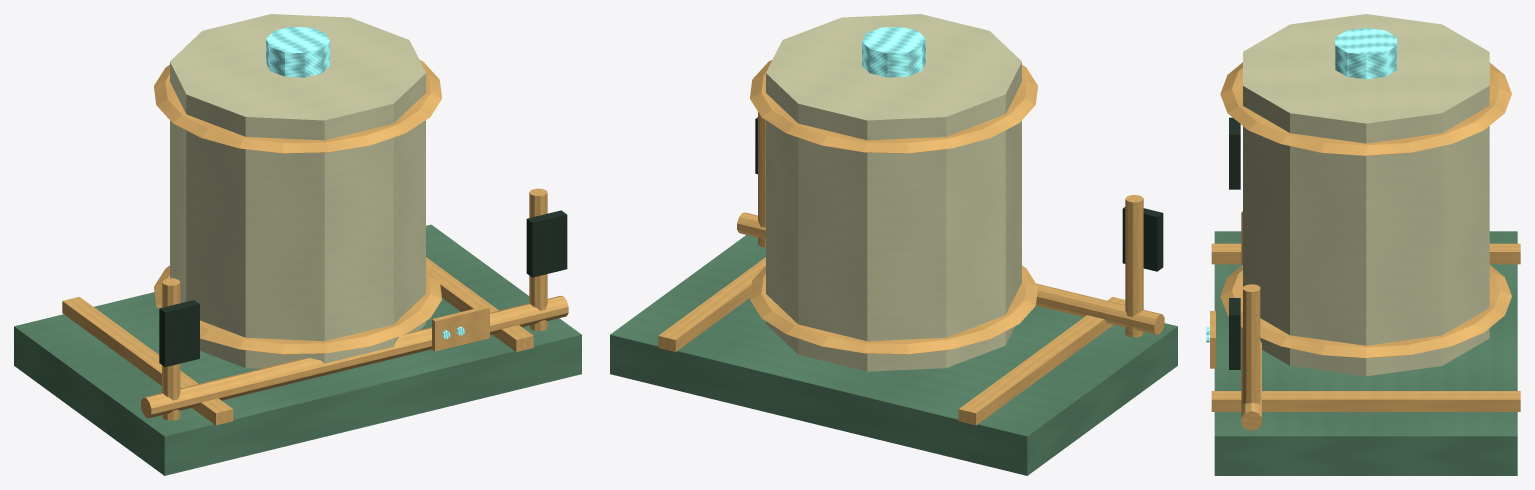
The model's file is atlas100-s009-a06.glb.
3 views of the same model, side by side, from view 1: azimuth 30°, elevation 25°; view 2: azimuth 150°, elevation 25°; view 3: azimuth 270°, elevation 25° (orthographic).
Parts seen in each view (by area): view 1: atlas100-s009-a06:part-003, atlas100-s009-a06:part-000, atlas100-s009-a06:part-012, atlas100-s009-a06:part-005, atlas100-s009-a06:part-004, atlas100-s009-a06:part-001, atlas100-s009-a06:part-006, atlas100-s009-a06:part-011, atlas100-s009-a06:part-009, atlas100-s009-a06:part-002, atlas100-s009-a06:part-013, atlas100-s009-a06:part-008 (+1 smaller); view 2: atlas100-s009-a06:part-003, atlas100-s009-a06:part-000, atlas100-s009-a06:part-005, atlas100-s009-a06:part-004, atlas100-s009-a06:part-001, atlas100-s009-a06:part-012, atlas100-s009-a06:part-006, atlas100-s009-a06:part-002, atlas100-s009-a06:part-008, atlas100-s009-a06:part-009, atlas100-s009-a06:part-010; view 3: atlas100-s009-a06:part-003, atlas100-s009-a06:part-000, atlas100-s009-a06:part-002, atlas100-s009-a06:part-005, atlas100-s009-a06:part-004, atlas100-s009-a06:part-006, atlas100-s009-a06:part-010, atlas100-s009-a06:part-001, atlas100-s009-a06:part-012, atlas100-s009-a06:part-011, atlas100-s009-a06:part-009, atlas100-s009-a06:part-013.
Boxes of the visible parts, x1,y1,x2,y2 form: atlas100-s009-a06:part-003: (170, 14, 425, 368); atlas100-s009-a06:part-000: (14, 224, 581, 475); atlas100-s009-a06:part-012: (141, 295, 568, 418); atlas100-s009-a06:part-005: (154, 60, 441, 153); atlas100-s009-a06:part-004: (154, 265, 441, 354); atlas100-s009-a06:part-001: (62, 297, 233, 425); atlas100-s009-a06:part-006: (266, 26, 329, 77); atlas100-s009-a06:part-011: (526, 210, 567, 277); atlas100-s009-a06:part-009: (159, 300, 199, 367); atlas100-s009-a06:part-002: (426, 257, 533, 351); atlas100-s009-a06:part-013: (432, 306, 489, 351); atlas100-s009-a06:part-008: (162, 278, 180, 420); atlas100-s009-a06:part-003: (766, 14, 1021, 371); atlas100-s009-a06:part-000: (610, 235, 1177, 475); atlas100-s009-a06:part-005: (750, 60, 1037, 153); atlas100-s009-a06:part-004: (750, 265, 1037, 354); atlas100-s009-a06:part-001: (958, 297, 1125, 425); atlas100-s009-a06:part-012: (737, 212, 1164, 334); atlas100-s009-a06:part-006: (862, 26, 925, 77); atlas100-s009-a06:part-002: (658, 257, 765, 351); atlas100-s009-a06:part-008: (1125, 195, 1143, 337); atlas100-s009-a06:part-009: (1122, 207, 1163, 271); atlas100-s009-a06:part-010: (758, 112, 765, 247); atlas100-s009-a06:part-003: (1243, 14, 1489, 376); atlas100-s009-a06:part-000: (1214, 231, 1517, 475); atlas100-s009-a06:part-002: (1211, 391, 1520, 411); atlas100-s009-a06:part-005: (1220, 62, 1511, 155); atlas100-s009-a06:part-004: (1220, 264, 1511, 358); atlas100-s009-a06:part-006: (1335, 27, 1396, 79); atlas100-s009-a06:part-010: (1243, 284, 1260, 404); atlas100-s009-a06:part-001: (1211, 243, 1520, 264); atlas100-s009-a06:part-012: (1241, 211, 1261, 430); atlas100-s009-a06:part-011: (1229, 298, 1240, 369); atlas100-s009-a06:part-009: (1229, 117, 1240, 189); atlas100-s009-a06:part-013: (1210, 311, 1215, 368).
Size of the model in its own units: 2.88 by 2.18 by 1.87.
Materials: 5 (5 with a texture image).
